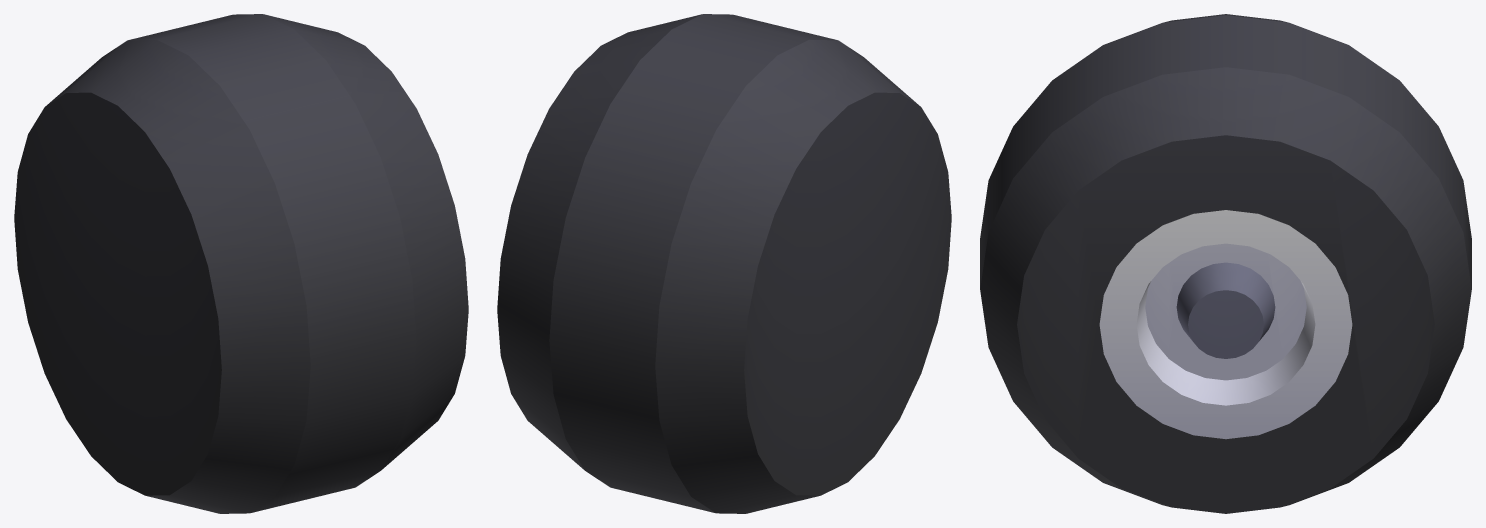
Rendered from wheel-truck.fbx.
3 renders of one model, left to right at view 1: azimuth 30°, elevation 25°; view 2: azimuth 150°, elevation 25°; view 3: azimuth 270°, elevation 25°, orthographic.
Visible parts, largest first — view 1: wheel-truck; view 2: wheel-truck; view 3: wheel-truck.
Boxes of the visible parts, x1,y1,x2,y2 form: wheel-truck: (14,14,468,513); wheel-truck: (497,14,951,513); wheel-truck: (980,14,1471,513).
Size of the model in its own units: 35 by 60 by 60.
1 material, 1 textured.
